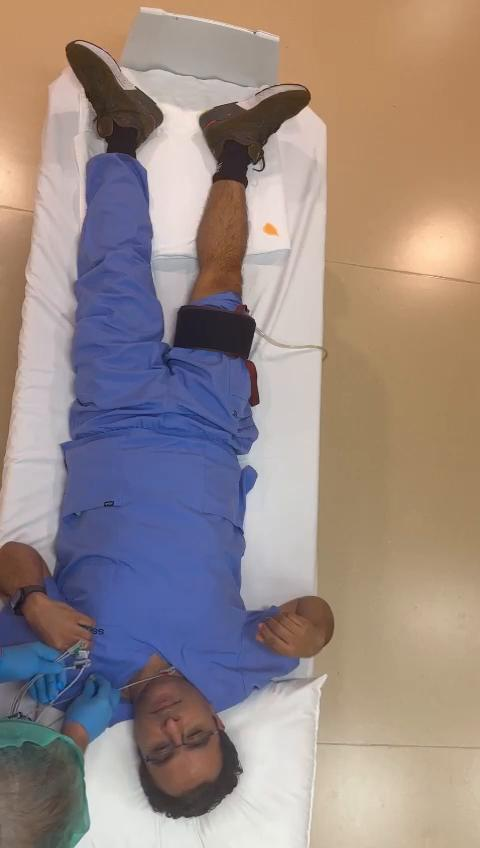patient: (0, 41, 333, 817)
tourniquet: (174, 305, 257, 359)
